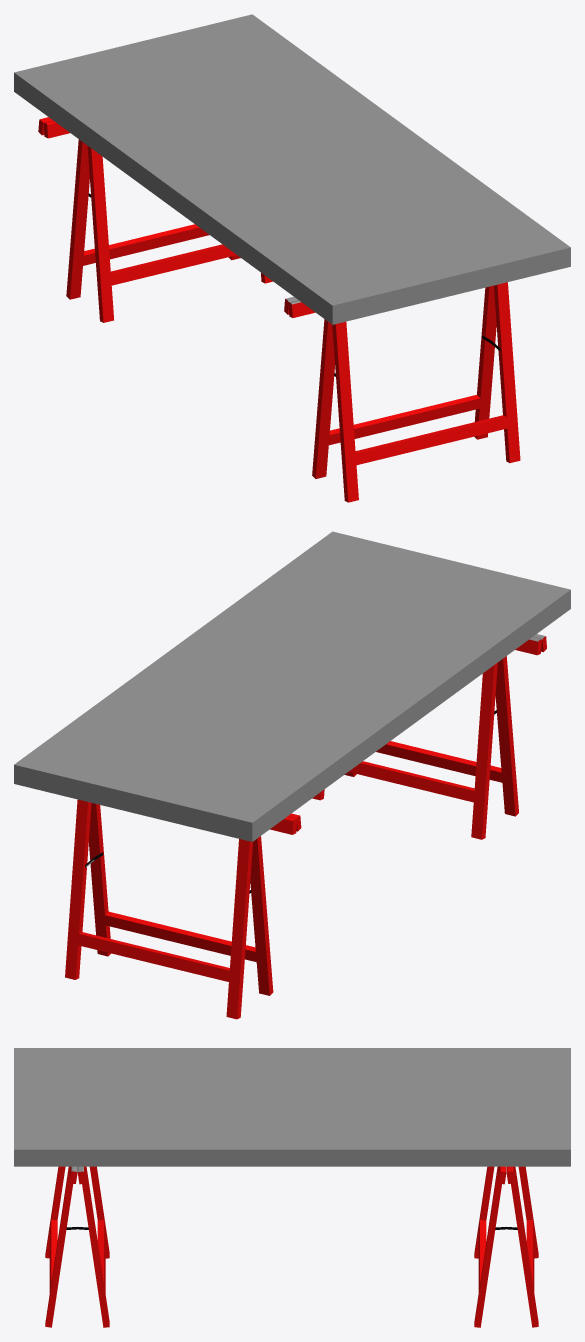
File: Table (2).FBX
The picture shows the model from 3 angles, top to bottom: view 1: azimuth 30°, elevation 25°; view 2: azimuth 150°, elevation 25°; view 3: azimuth 270°, elevation 25°; orthographic projection. The views are drawn at different scales.
Visible parts, largest first — view 1: Box006; view 2: Box006; view 3: Box006.
Boxes of the visible parts, bbox=[...] form: Box006: bbox=[14, 14, 570, 502]; Box006: bbox=[14, 531, 570, 1019]; Box006: bbox=[14, 1048, 570, 1327].
Size of the model in its own units: 1.39 by 1.14 by 3.
